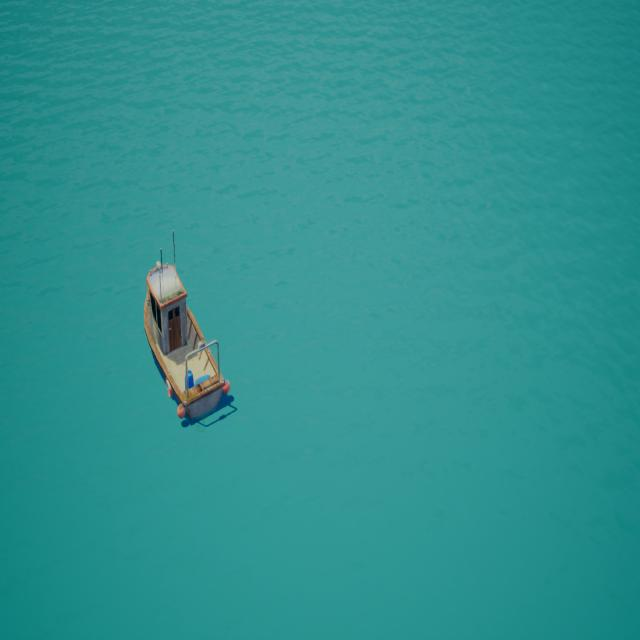ship: (145, 235, 232, 428)
